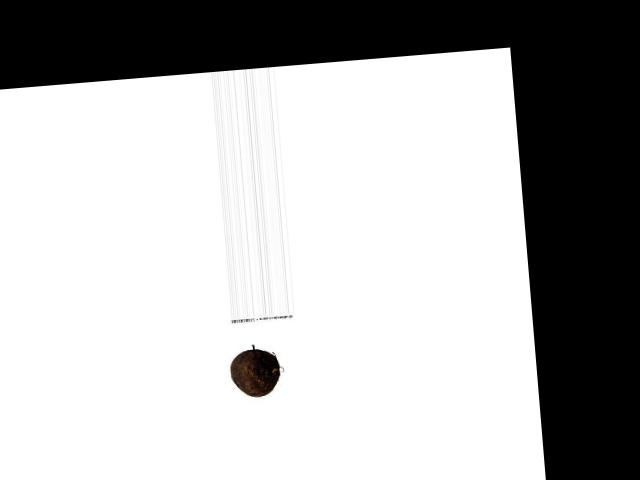beet: (227, 347, 280, 398)
